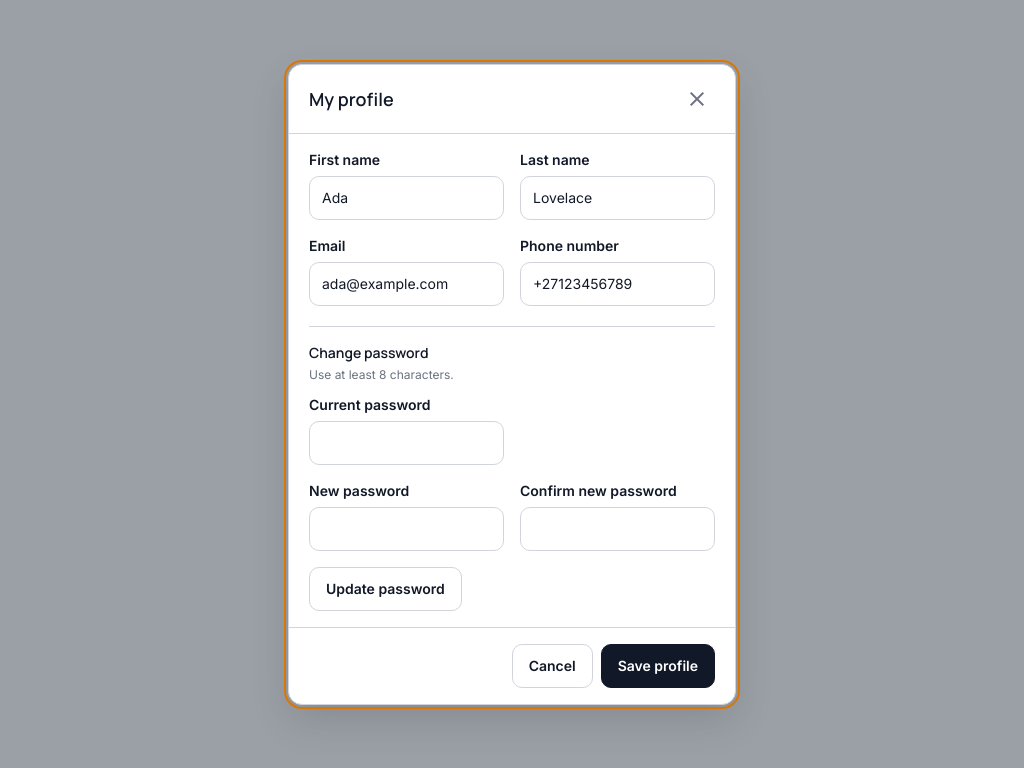
Scenario: ProfileModal › posts the password change to /auth/me/password without a role
Check: the field showing "ada@example.com" below "Email" is shown, box [309,262,504,306]
Type "SuperSecret1!" into the password field named "Current password" at (406, 442), box [309,420,504,464]
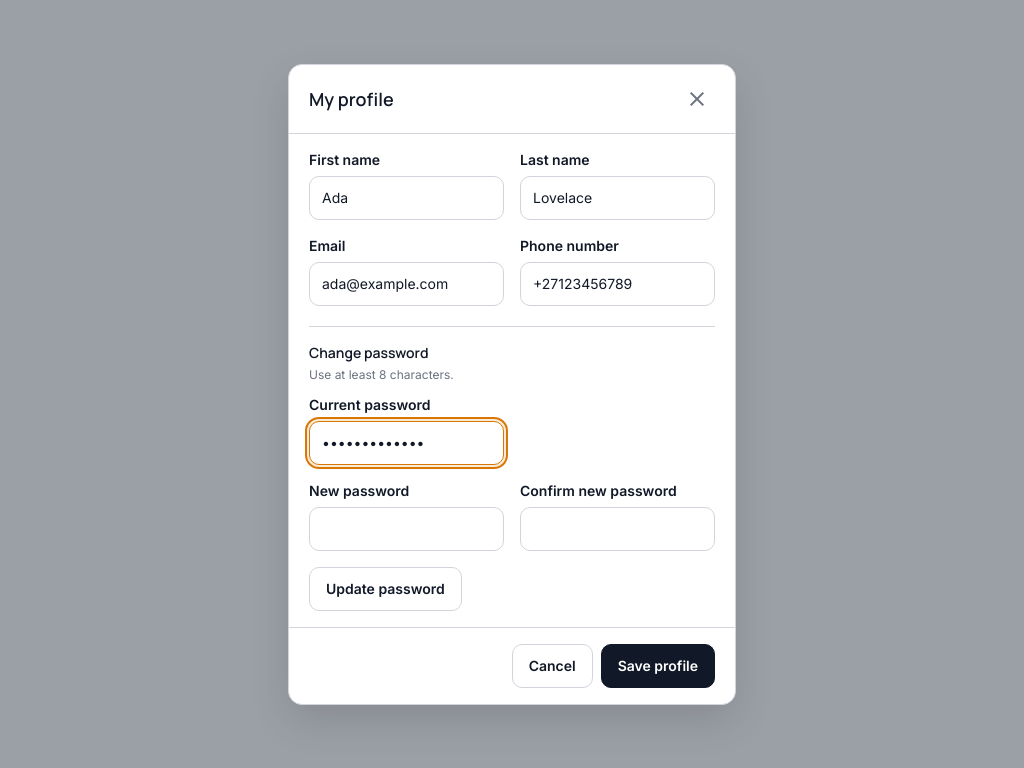
Type "BrandNewPass1!" into the password field named "New password" at (406, 528), box [309,506,504,550]
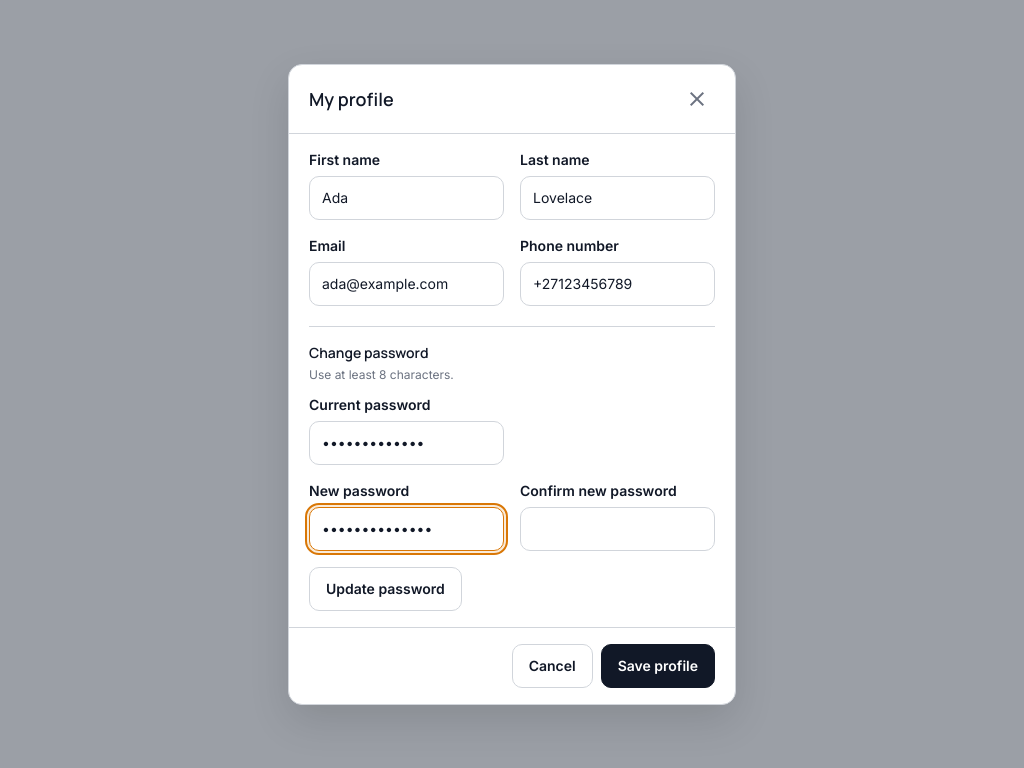
Type "BrandNewPass1!" into the password field named "Confirm new password" at (618, 528), box [520,506,715,550]
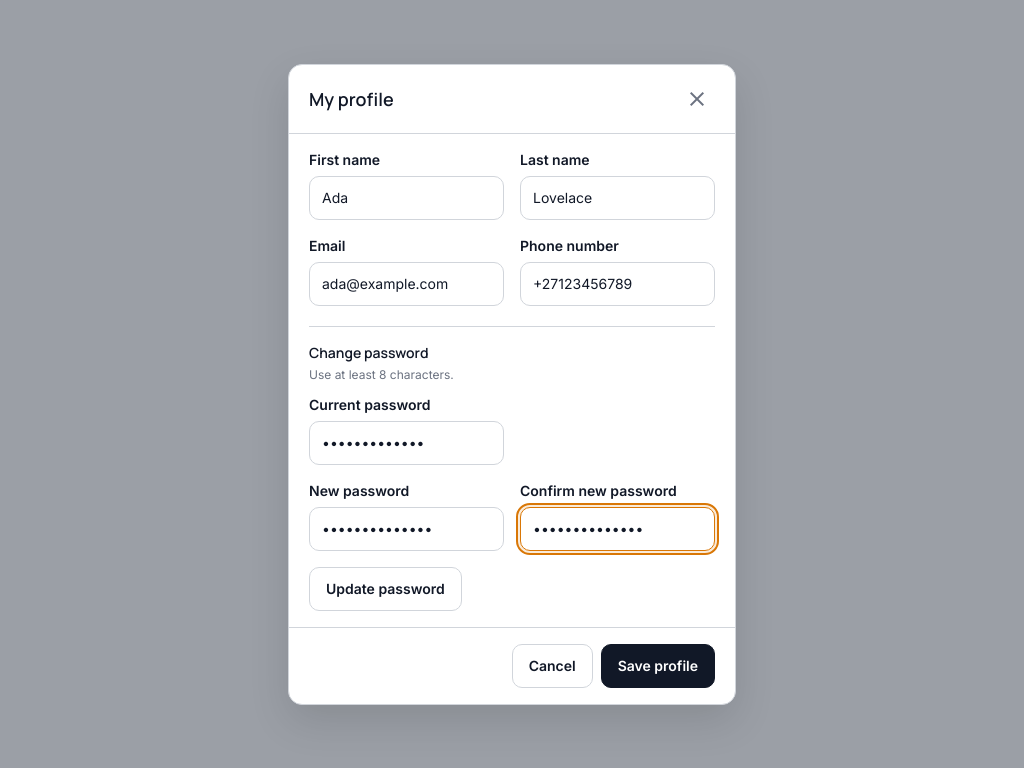
Click the button "Update password" at (385, 588), box [309,566,462,610]
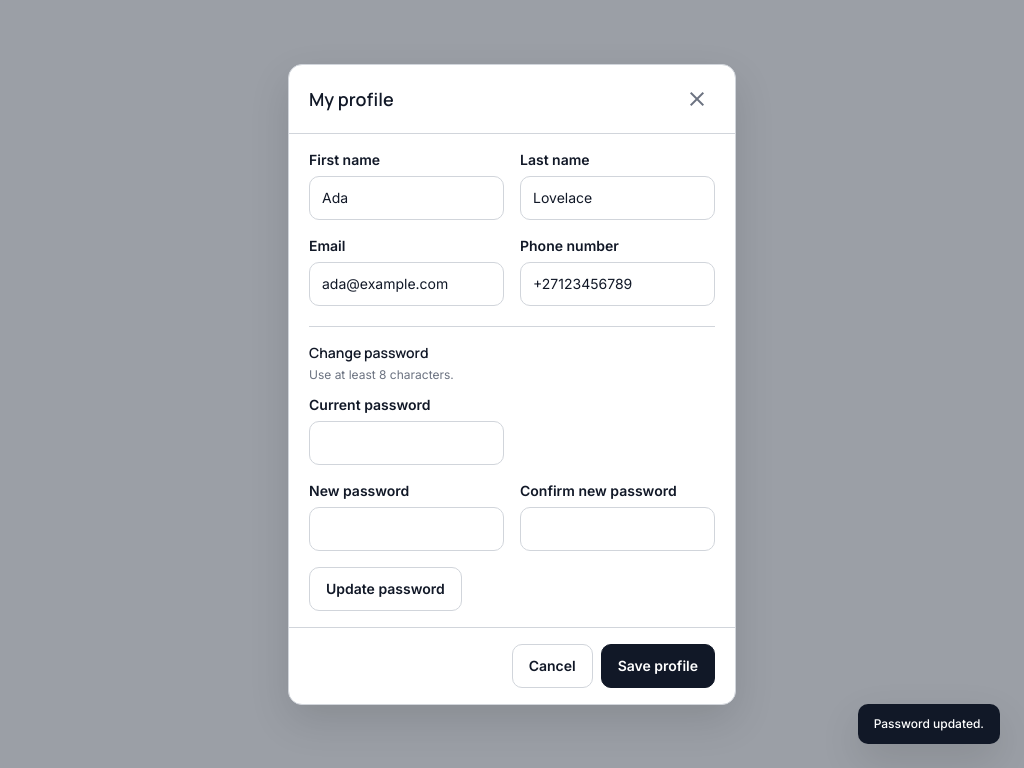
Check: the text "Password updated." is shown, box [858,704,1000,744]
